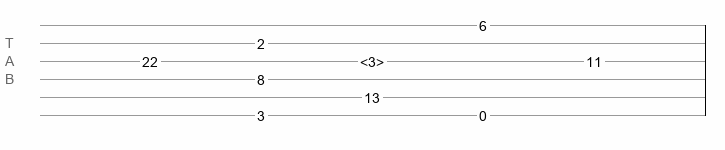0: (479, 108, 487, 118)
11: (586, 54, 602, 64)
13: (364, 90, 380, 100)
2: (257, 36, 265, 46)
22: (142, 54, 158, 64)
3: (257, 108, 265, 118)
6: (479, 18, 487, 28)
8: (257, 72, 265, 82)
harmonic: (360, 54, 384, 64)
